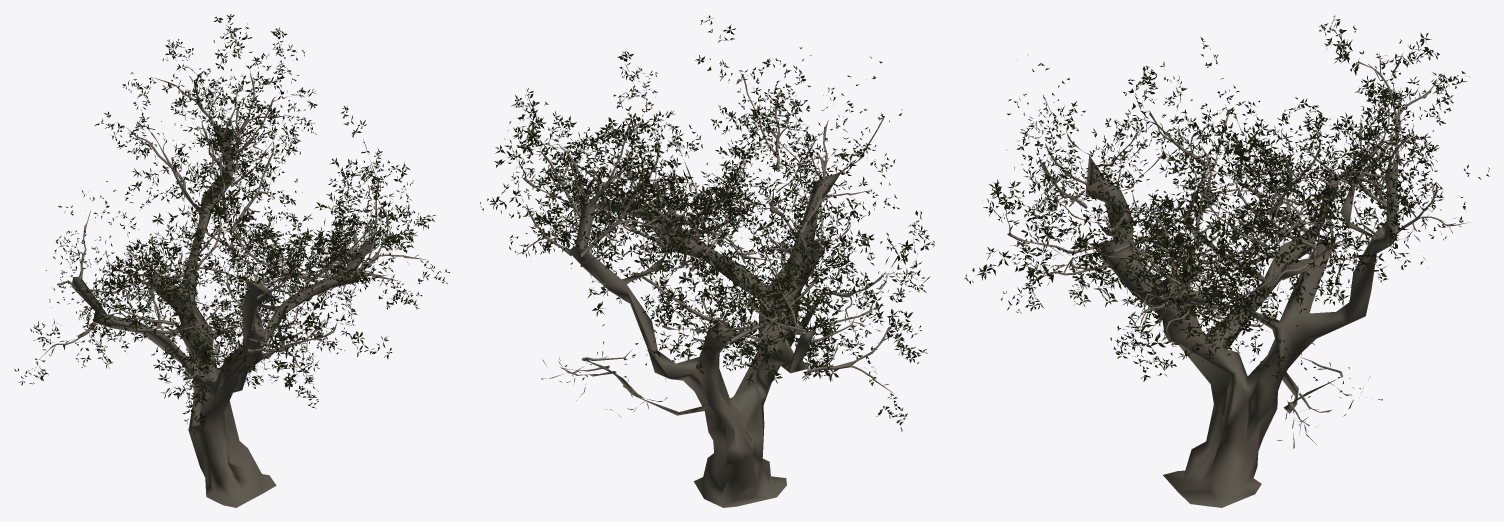
File: island_tree_01-lod0.glb
The picture shows the model from 3 angles, left to right: view 1: azimuth 30°, elevation 25°; view 2: azimuth 150°, elevation 25°; view 3: azimuth 270°, elevation 25°; orthographic projection. The views are drawn at different scales.
Parts seen in each view (by area): view 1: island_tree_01_LOD0; view 2: island_tree_01_LOD0; view 3: island_tree_01_LOD0.
Boxes of the visible parts, x1=… form: island_tree_01_LOD0: x1=14, y1=14, x2=449, y2=507; island_tree_01_LOD0: x1=480, y1=15, x2=934, y2=507; island_tree_01_LOD0: x1=964, y1=15, x2=1489, y2=507.
Size of the model in its own units: 9.4 by 9.94 by 9.46.
